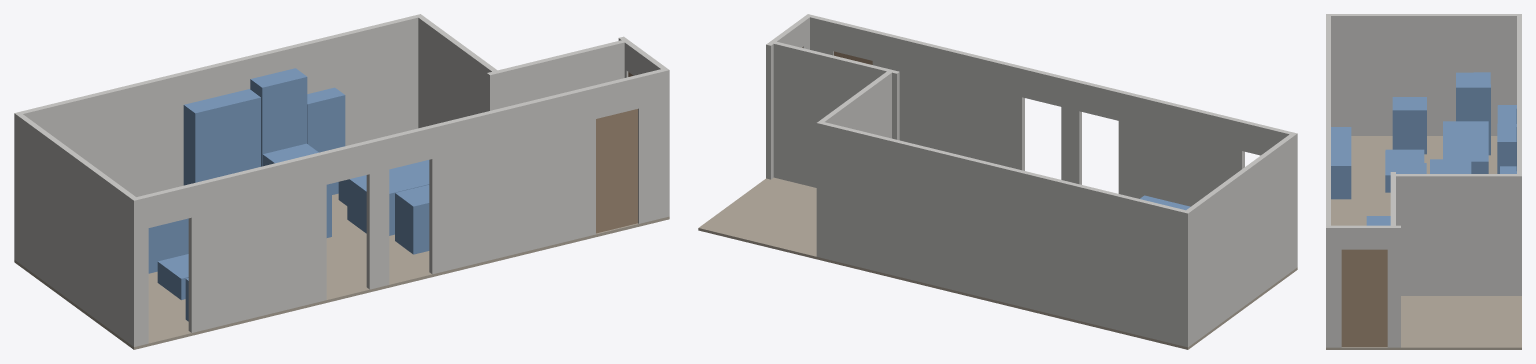
The model's file is room_029.glb.
3 views of the same model, side by side, from view 1: azimuth 30°, elevation 25°; view 2: azimuth 150°, elevation 25°; view 3: azimuth 270°, elevation 25° (orthographic). The views are drawn at different scales.
Parts seen in each view (by area): view 1: shell_wall_5_s0, shell_wall_1_s6, shell_wall_1_s2, shell_wall_0_s0, shell_floor, obj_001, shell_wall_4_s0, shell_wall_3_s0, shell_wall_1_door, shell_wall_1_s8, obj_004, shell_wall_1_s4 (+13 smaller); view 2: shell_wall_5_s0, shell_wall_0_s0, shell_wall_1_s6, shell_wall_1_s2, shell_wall_3_s0, shell_floor, shell_wall_4_s0, shell_wall_1_s4, shell_wall_1_s5, shell_wall_1_s3, shell_wall_1_s7, shell_wall_2_s2 (+4 smaller); view 3: shell_wall_0_s0, shell_wall_4_s0, shell_floor, shell_wall_2_door, obj_003, obj_015, obj_002, shell_wall_2_s2, shell_wall_2_s0, obj_012, shell_wall_2_s1, shell_wall_5_s0 (+10 smaller).
Boxes of the visible parts, x1=… form: shell_wall_5_s0: x1=14, y1=14, x2=423, y2=260; shell_wall_1_s6: x1=429, y1=86, x2=595, y2=274; shell_wall_1_s2: x1=188, y1=151, x2=326, y2=332; shell_wall_0_s0: x1=14, y1=112, x2=139, y2=346; shell_floor: x1=14, y1=193, x2=669, y2=349; obj_001: x1=183, y1=89, x2=260, y2=185; shell_wall_4_s0: x1=416, y1=14, x2=497, y2=128; shell_wall_3_s0: x1=487, y1=39, x2=629, y2=111; shell_wall_1_door: x1=596, y1=109, x2=637, y2=233; shell_wall_1_s8: x1=636, y1=69, x2=669, y2=223; obj_004: x1=250, y1=68, x2=307, y2=166; shell_wall_1_s4: x1=366, y1=136, x2=389, y2=289; shell_wall_5_s0: x1=816, y1=121, x2=1190, y2=346; shell_wall_0_s0: x1=1183, y1=132, x2=1297, y2=347; shell_wall_1_s6: x1=872, y1=30, x2=1024, y2=170; shell_wall_1_s2: x1=1118, y1=90, x2=1244, y2=206; shell_wall_3_s0: x1=771, y1=41, x2=899, y2=187; shell_floor: x1=698, y1=177, x2=1297, y2=349; shell_wall_4_s0: x1=816, y1=69, x2=893, y2=256; shell_wall_1_s4: x1=1061, y1=76, x2=1081, y2=184; shell_wall_1_s5: x1=1022, y1=67, x2=1063, y2=106; shell_wall_1_s3: x1=1079, y1=81, x2=1120, y2=120; shell_wall_1_s7: x1=833, y1=21, x2=874, y2=60; shell_wall_2_s2: x1=766, y1=39, x2=778, y2=179; shell_wall_0_s0: x1=1326, y1=14, x2=1521, y2=135; shell_wall_4_s0: x1=1390, y1=174, x2=1521, y2=295; shell_floor: x1=1326, y1=136, x2=1521, y2=349; shell_wall_2_door: x1=1341, y1=249, x2=1387, y2=346; obj_003: x1=1443, y1=121, x2=1488, y2=173; obj_015: x1=1392, y1=97, x2=1426, y2=154; obj_002: x1=1456, y1=72, x2=1490, y2=155; shell_wall_2_s2: x1=1387, y1=225, x2=1400, y2=347; shell_wall_2_s0: x1=1326, y1=225, x2=1341, y2=347; obj_012: x1=1331, y1=127, x2=1351, y2=199; shell_wall_2_s1: x1=1341, y1=225, x2=1387, y2=249; shell_wall_5_s0: x1=1517, y1=14, x2=1521, y2=295.
Bounding box in the file's own units: 9.96 × 2.65 × 3.86.
